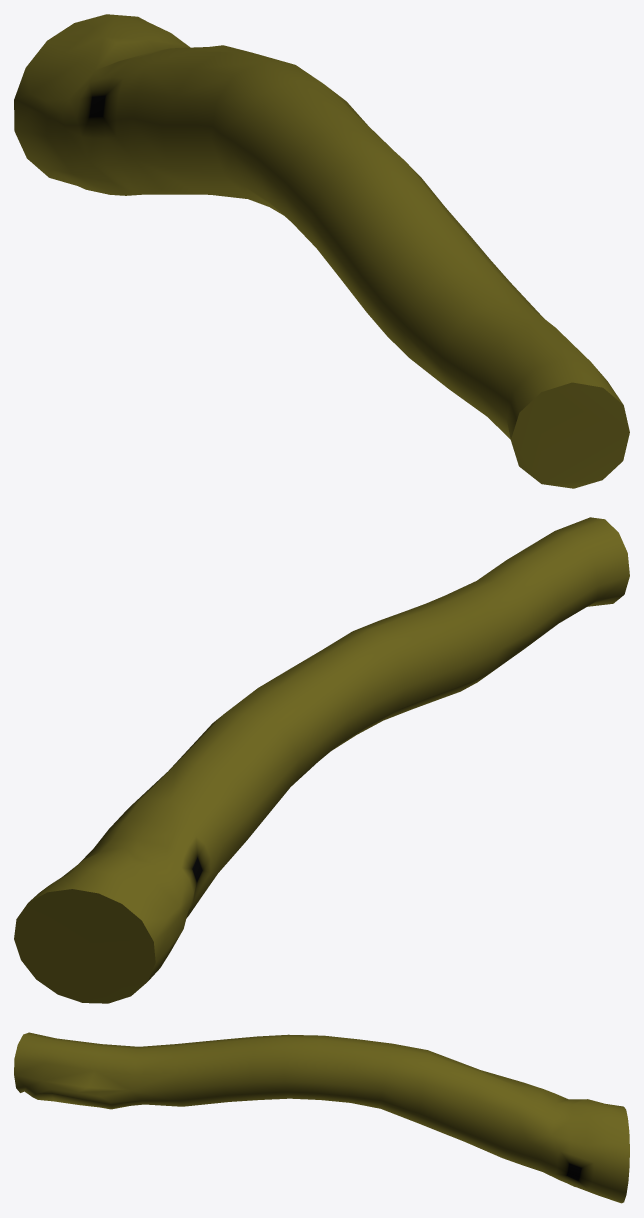
File: Aorta_in.FBX
The picture shows the model from 3 angles, top to bottom: view 1: azimuth 30°, elevation 25°; view 2: azimuth 150°, elevation 25°; view 3: azimuth 270°, elevation 25°; orthographic projection. The views are drawn at different scales.
Visible parts, largest first — view 1: Aorta_in-Snapshot; view 2: Aorta_in-Snapshot; view 3: Aorta_in-Snapshot.
Part boxes in pixels (<box>): Aorta_in-Snapshot: <box>14,14,629,488</box>; Aorta_in-Snapshot: <box>14,517,629,1003</box>; Aorta_in-Snapshot: <box>14,1032,629,1203</box>.
Bounding box in the file's own units: 25.77 × 27.16 × 105.
